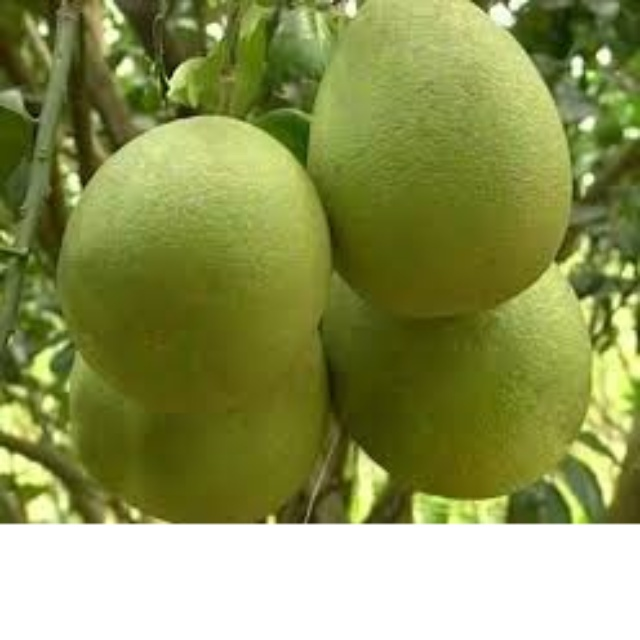buoi: (306, 1, 577, 323), (55, 112, 343, 414)
